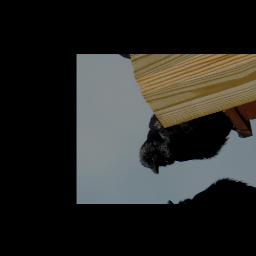Crow: (124, 90, 248, 182)
